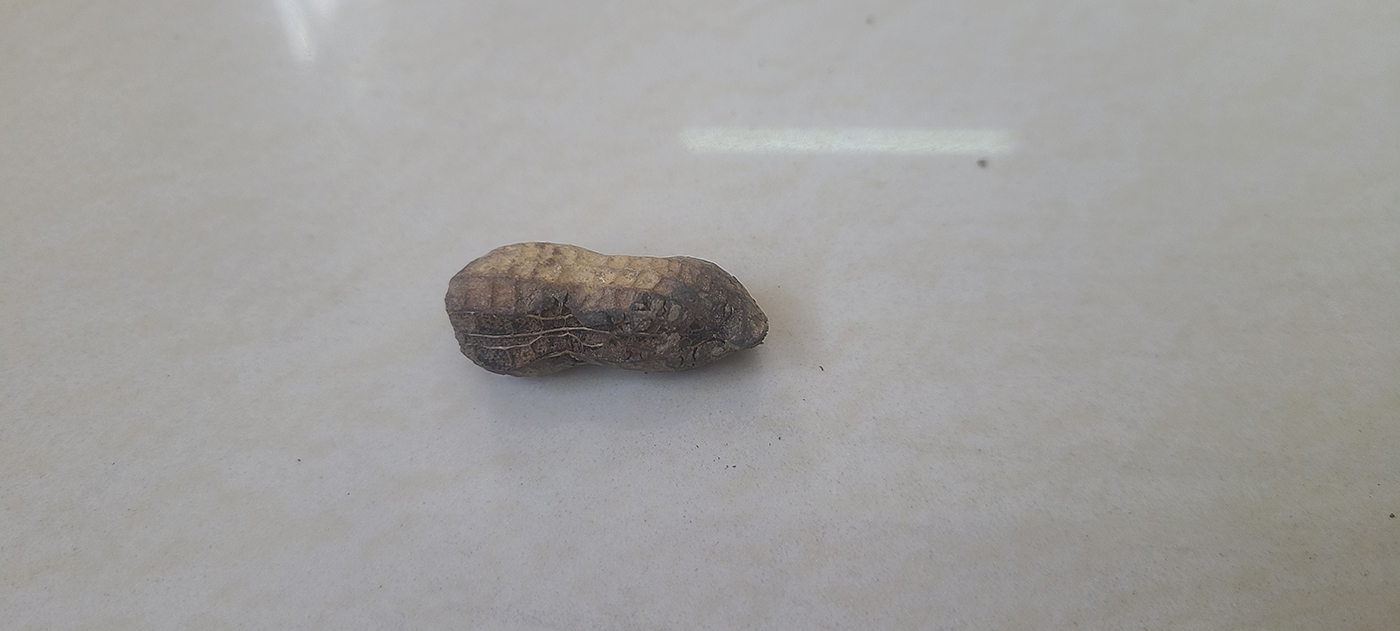l: (439, 240, 770, 379)
